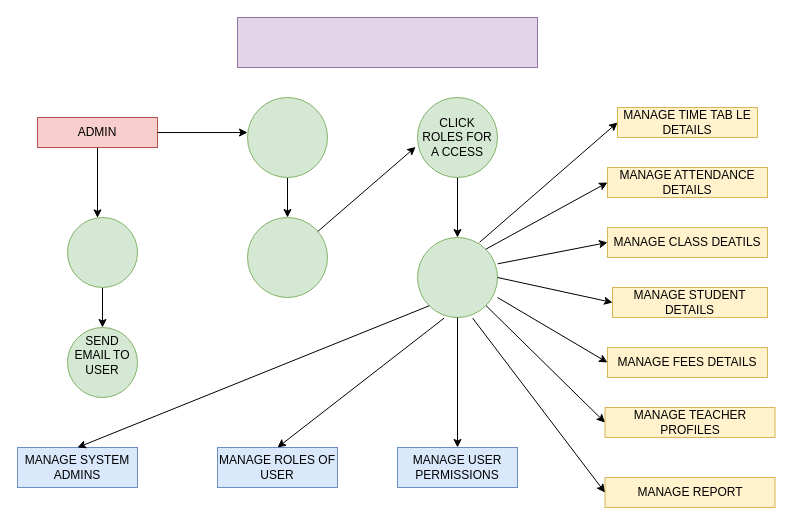
Image size: 793x525. Some labels were removed from this diagram. Each missing label, with the box of its shape:
CLICK CREDE NTIALS: (246, 216, 328, 298)
FORGET PASSWORD: (66, 216, 138, 288)
LOGIN TO SYSTEM: (246, 96, 328, 178)
MANAGE MODULES: (416, 236, 498, 318)
STUDENT INFORMATION SYSTEM: (236, 16, 538, 68)
